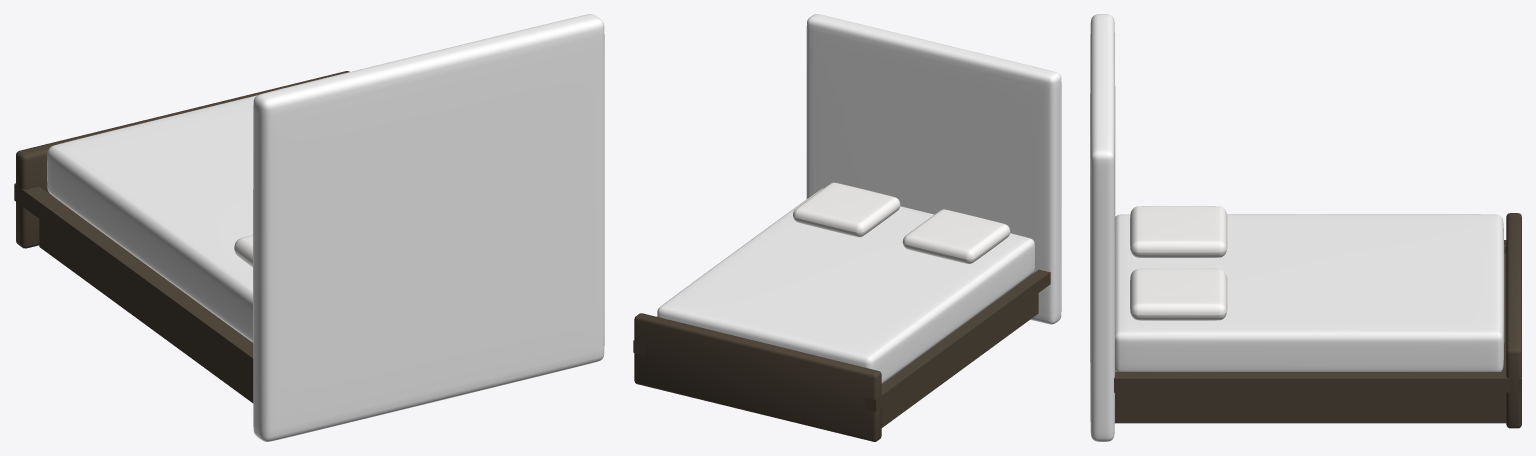
3 renders of one model, left to right at view 1: azimuth 30°, elevation 25°; view 2: azimuth 150°, elevation 25°; view 3: azimuth 270°, elevation 25°, orthographic. The views are drawn at different scales.
Visible parts, largest first — view 1: Headboard, Mattress, BedFrame, Footboard; view 2: Headboard, Mattress, Footboard, BedFrame, Pillow.001, Pillow; view 3: Mattress, BedFrame, Headboard, Pillow.001, Pillow, Footboard.
Part boxes in pixels (<box>): Headboard: <box>253,14,604,441</box>; Mattress: <box>47,95,256,342</box>; BedFrame: <box>14,183,253,403</box>; Footboard: <box>16,71,349,248</box>; Headboard: <box>806,14,1061,324</box>; Mattress: <box>657,188,1034,383</box>; Footboard: <box>634,313,881,441</box>; BedFrame: <box>633,269,1050,427</box>; Pillow.001: <box>793,182,900,237</box>; Pillow: <box>902,209,1010,263</box>; Mattress: <box>1115,214,1504,371</box>; BedFrame: <box>1114,240,1521,423</box>; Headboard: <box>1090,14,1115,441</box>; Pillow.001: <box>1130,268,1227,320</box>; Pillow: <box>1130,206,1227,257</box>; Footboard: <box>1506,213,1521,428</box>.
Size of the model in its own units: 1.73 by 1.65 by 2.21.
